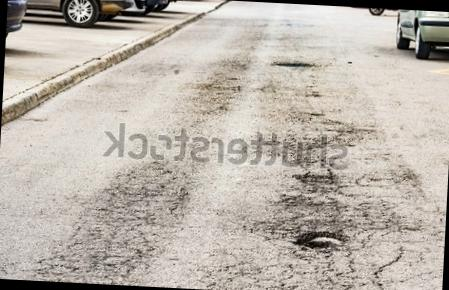pothole: (270, 206, 369, 270), (278, 152, 349, 200), (264, 43, 336, 81)
